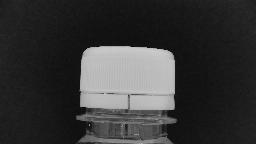Broken Ring: (108, 89, 152, 113)
Loose Cap: (74, 88, 180, 126)
